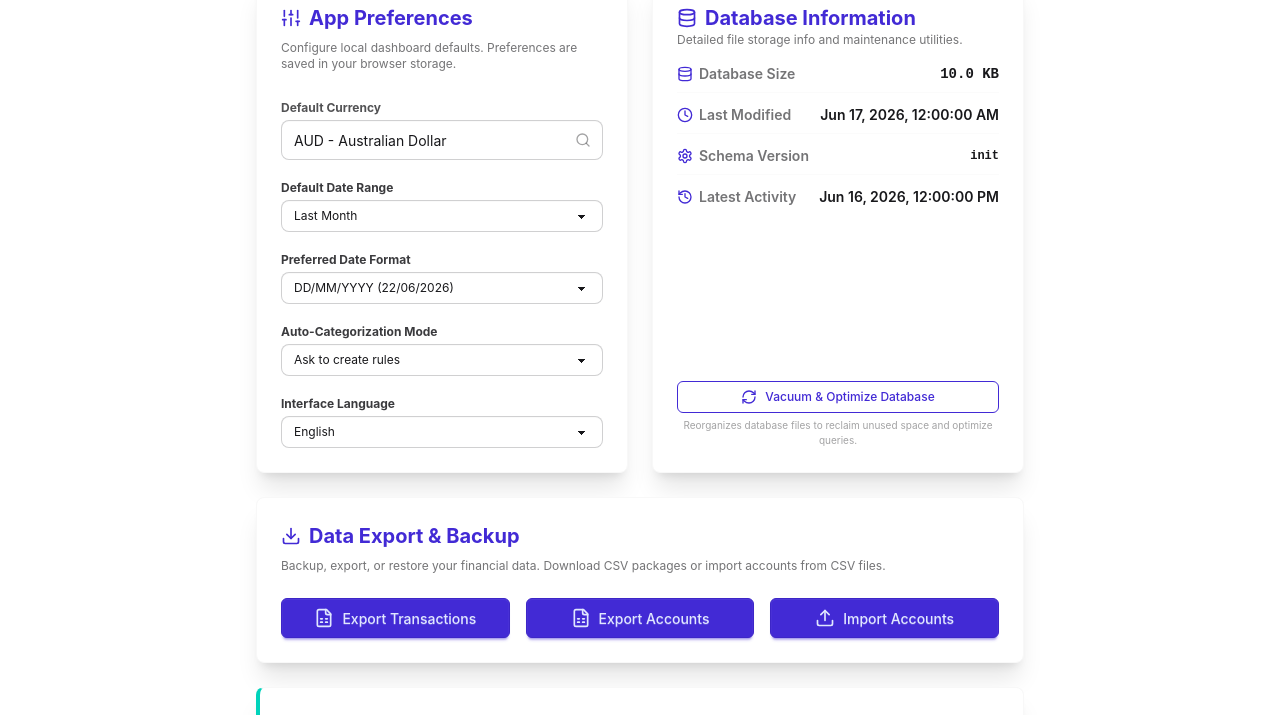
it: PreferencesCard › renders rule mode dropdown and updates preference on change
(page scrolled)
Select "Automatically create rules" in the dropdown labelled "Auto-Categorization Mode": (442, 360) [281, 344, 603, 376]
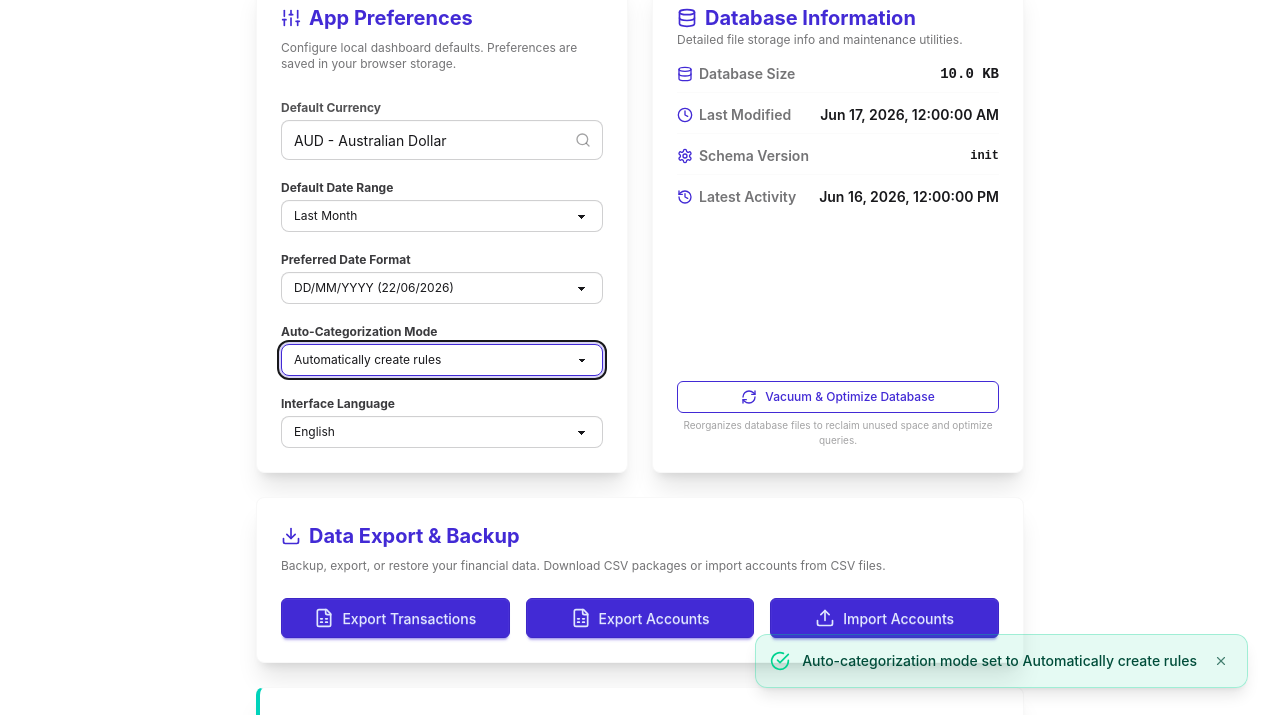
Result: the text "Auto-categorization mode set to Automatically create rules" is shown at [802, 651, 1197, 671]
